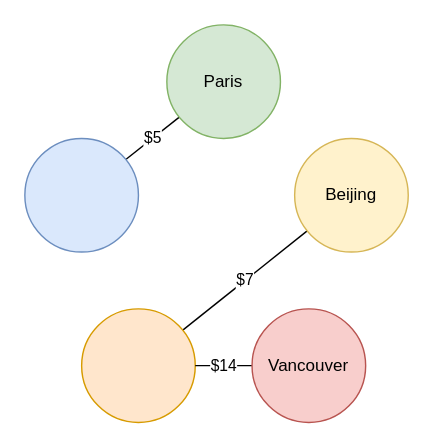
Some shapes in this 433 by 447 pixel diagram are drawn without their labels. Each missing label, with the centre of its shape:
"Cairo" goes at [137,364].
"New York" goes at [80,194].
